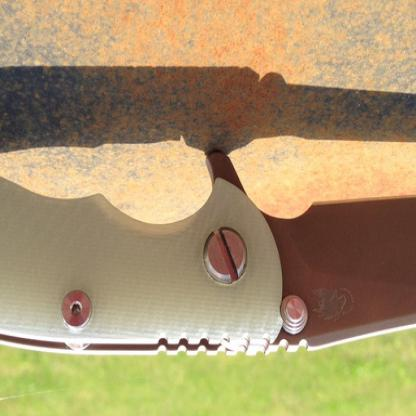knife: (0, 133, 415, 366)
